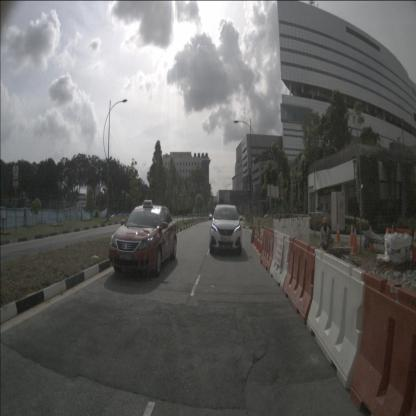movable_object-barrier: (350, 272, 415, 416), (306, 250, 366, 390), (283, 236, 317, 324), (269, 231, 290, 291), (382, 227, 412, 256), (260, 226, 275, 273)
movable_object-trafficcone: (349, 228, 360, 256), (367, 224, 375, 250), (348, 224, 356, 246), (410, 229, 415, 264), (334, 222, 342, 243), (258, 232, 263, 253), (256, 230, 260, 249), (254, 226, 258, 245)
vehicle-car: (109, 205, 177, 277), (210, 204, 242, 255)
